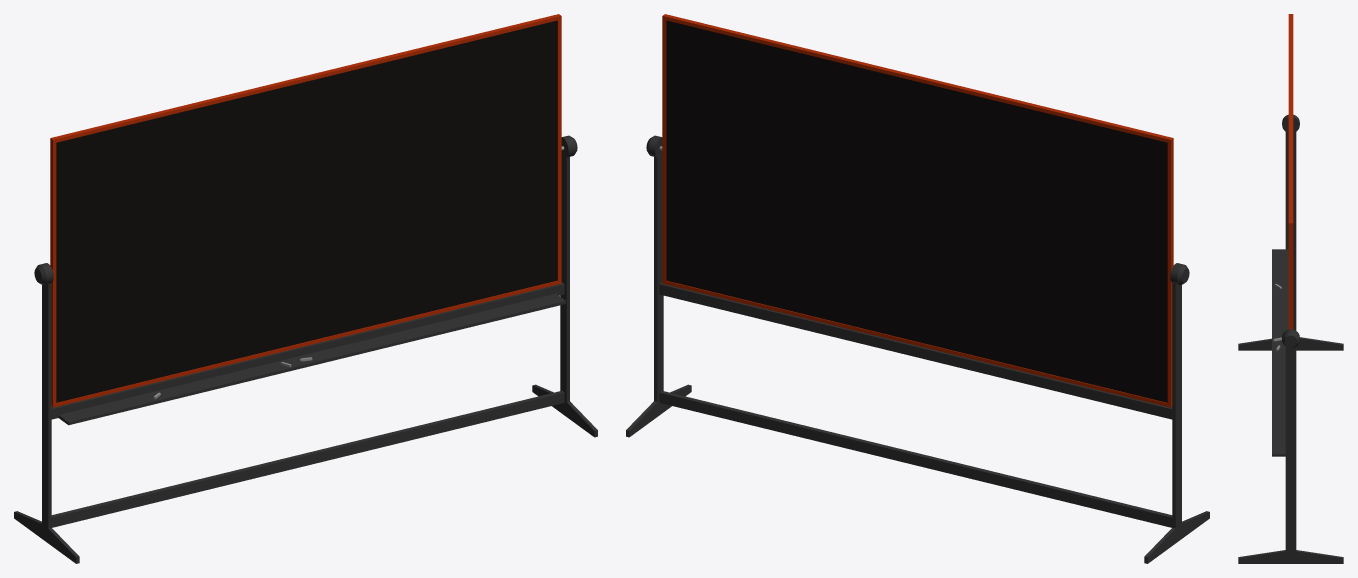
Rendered from class table.fbx.
The picture shows the model from 3 angles, left to right: view 1: azimuth 30°, elevation 25°; view 2: azimuth 150°, elevation 25°; view 3: azimuth 270°, elevation 25°; orthographic projection. The views are drawn at different scales.
Visible parts, largest first — view 1: Box001, Rectangle002; view 2: Box001, Rectangle002; view 3: Rectangle002, Box001.
Part boxes in pixels (x1,y1,x2,y2): Box001: (50, 14, 561, 407); Rectangle002: (14, 135, 597, 563); Box001: (662, 14, 1173, 407); Rectangle002: (626, 135, 1209, 563); Rectangle002: (1238, 114, 1343, 563); Box001: (1288, 14, 1293, 329).
Size of the model in its own units: 157 by 112 by 31.6.
